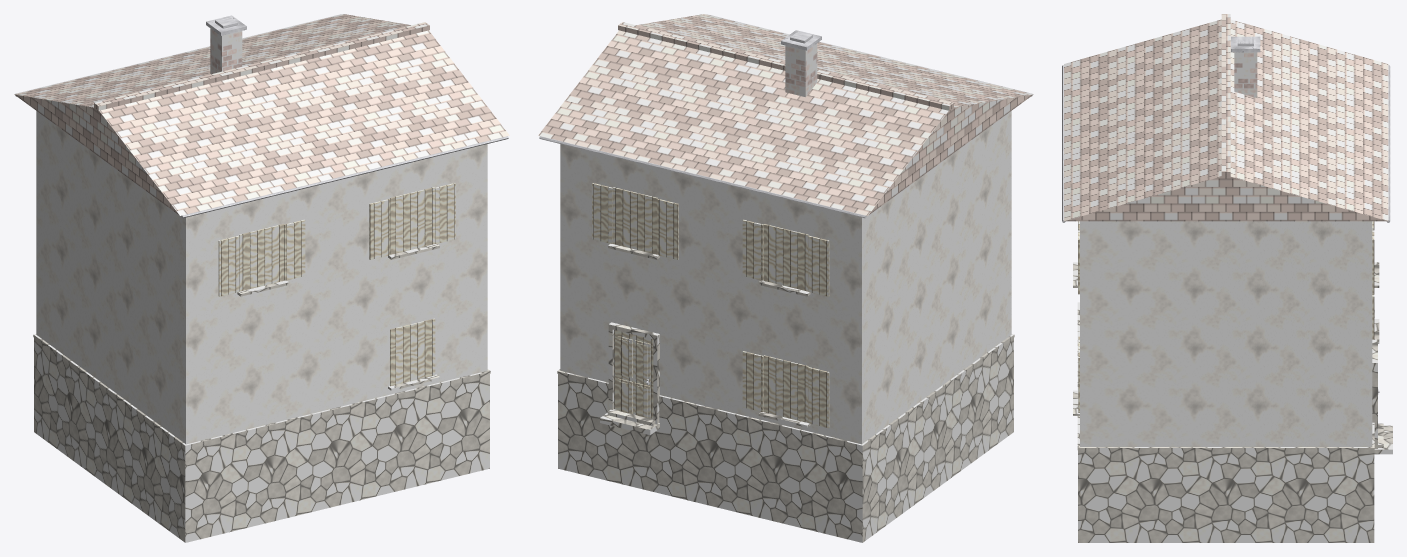
3 views of the same model, side by side, from view 1: azimuth 30°, elevation 25°; view 2: azimuth 150°, elevation 25°; view 3: azimuth 270°, elevation 25° (orthographic). The views are drawn at different scales.
Visible parts, largest first — view 1: b1088806819; view 2: b1088806819; view 3: b1088806819.
Part boxes in pixels (bbox=[...]): b1088806819: bbox=[14, 14, 509, 542]; b1088806819: bbox=[538, 14, 1033, 542]; b1088806819: bbox=[1062, 14, 1392, 542].
Size of the model in its own units: 8.18 by 10.09 by 7.24.
Materials: 19 (19 with a texture image).
